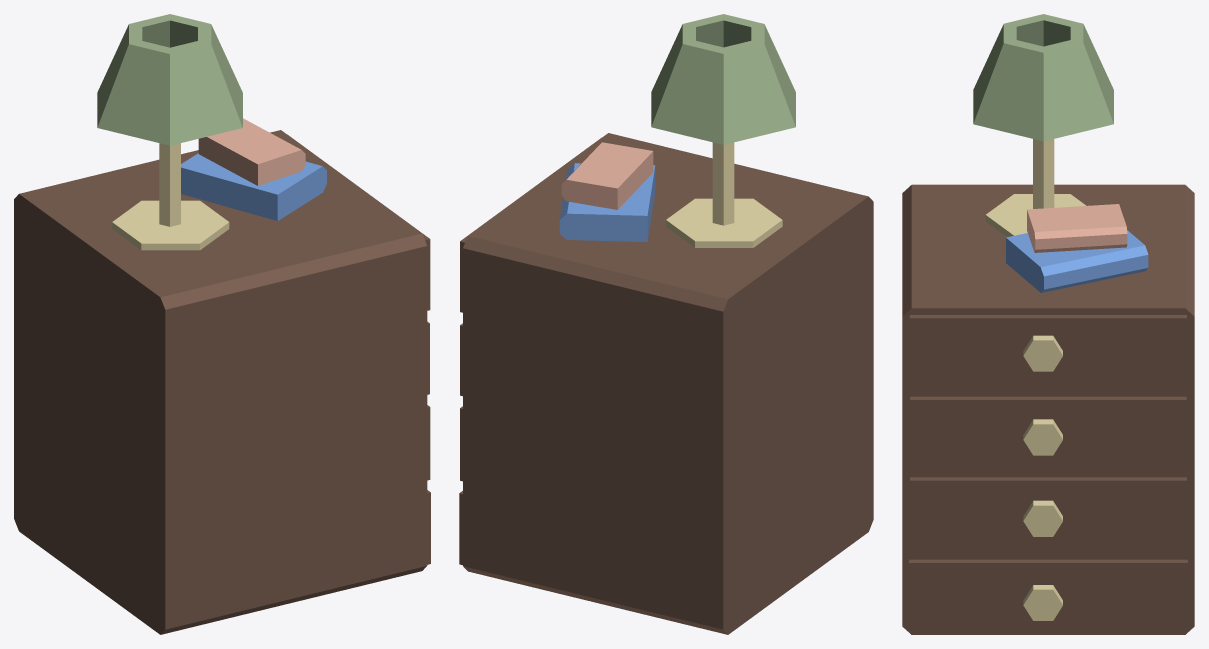
Rendered from geo_bedsideTable_01.fbx.
The picture shows the model from 3 angles, left to right: view 1: azimuth 30°, elevation 25°; view 2: azimuth 150°, elevation 25°; view 3: azimuth 270°, elevation 25°; orthographic projection. The views are drawn at different scales.
Visible parts, largest first — view 1: geo_bedsidetable_01, geo_lampShade_01, geo_book_01, geo_book_02, geo_lampbase_01, geo_lampPole_01; view 2: geo_bedsidetable_01, geo_lampShade_01, geo_book_02, geo_lampbase_01, geo_book_01, geo_lampPole_01; view 3: geo_bedsidetable_01, geo_lampShade_01, geo_book_01, geo_book_02, geo_lampbase_01, geo_lampPole_01, geo_tabledrawhandle_02, geo_tabledrawhandle_01, geo_tabledrawhandle_03, geo_tabledrawhandle_04.
Part boxes in pixels (x1,y1,x2,y2): geo_bedsidetable_01: (14, 130, 430, 634); geo_lampShade_01: (97, 14, 242, 145); geo_book_01: (181, 153, 326, 220); geo_book_02: (198, 118, 305, 185); geo_lampbase_01: (112, 200, 229, 250); geo_lampPole_01: (159, 143, 180, 226); geo_bedsidetable_01: (459, 133, 873, 634); geo_lampShade_01: (651, 14, 795, 144); geo_book_02: (561, 142, 653, 209); geo_lampbase_01: (666, 198, 782, 247); geo_book_01: (559, 163, 655, 242); geo_lampPole_01: (712, 142, 734, 225); geo_bedsidetable_01: (902, 184, 1194, 634); geo_lampShade_01: (973, 14, 1113, 141); geo_book_01: (1006, 230, 1148, 292); geo_book_02: (1027, 204, 1127, 252); geo_lampbase_01: (985, 194, 1086, 237); geo_lampPole_01: (1033, 139, 1054, 208); geo_tabledrawhandle_02: (1023, 335, 1062, 371); geo_tabledrawhandle_01: (1023, 419, 1062, 455); geo_tabledrawhandle_03: (1023, 500, 1062, 536); geo_tabledrawhandle_04: (1023, 585, 1062, 620).
Bounding box in the file's own units: 42.79 × 77.91 × 40.14.
